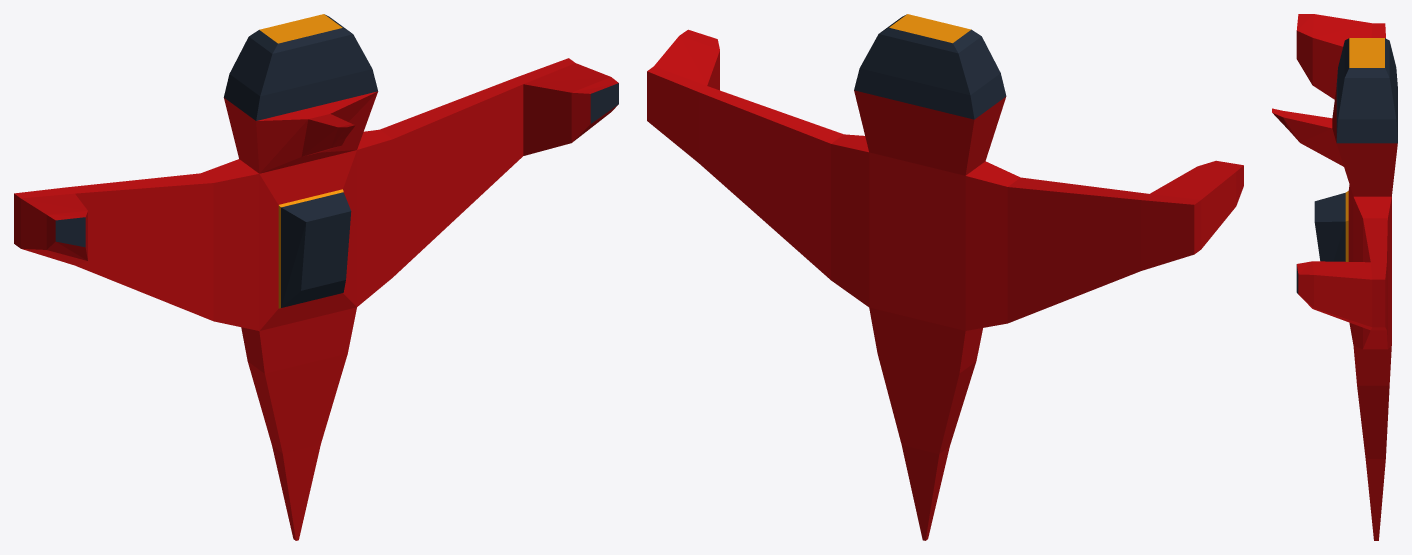
File: nave_cowboyb.obj
The picture shows the model from 3 angles, left to right: view 1: azimuth 30°, elevation 25°; view 2: azimuth 150°, elevation 25°; view 3: azimuth 270°, elevation 25°; orthographic projection. The views are drawn at different scales.
Visible parts, largest first — view 1: Nave; view 2: Nave; view 3: Nave.
Part boxes in pixels (left/top/right/bottom): Nave: left=14, top=14, right=618, bottom=540; Nave: left=647, top=14, right=1243, bottom=540; Nave: left=1272, top=14, right=1397, bottom=540.
Bounding box in the file's own units: 9.02 × 7.85 × 1.84.
